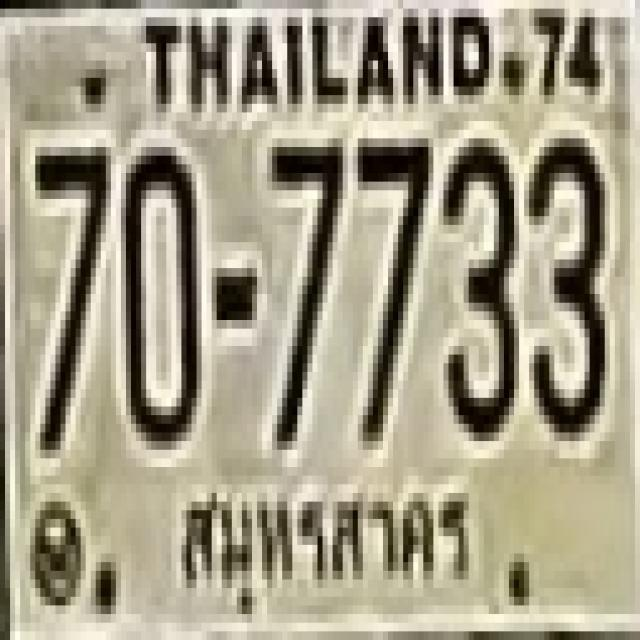0: (121, 138, 196, 441)
3: (438, 130, 514, 432), (524, 130, 600, 432)
7: (30, 138, 106, 450), (353, 130, 428, 441), (267, 138, 338, 441), (267, 138, 338, 390)
SKN: (171, 472, 481, 599)
